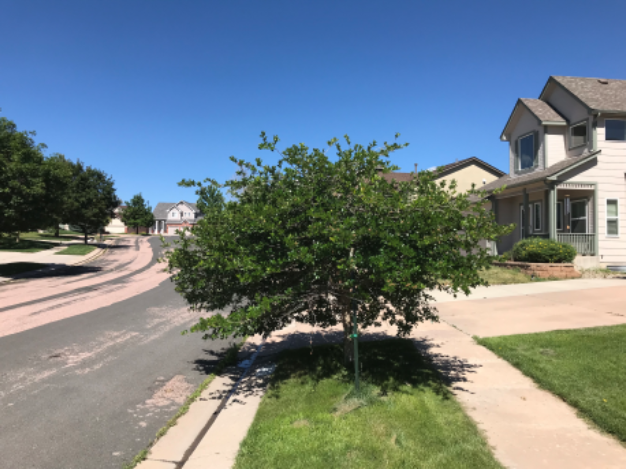tree: (156, 130, 519, 386)
